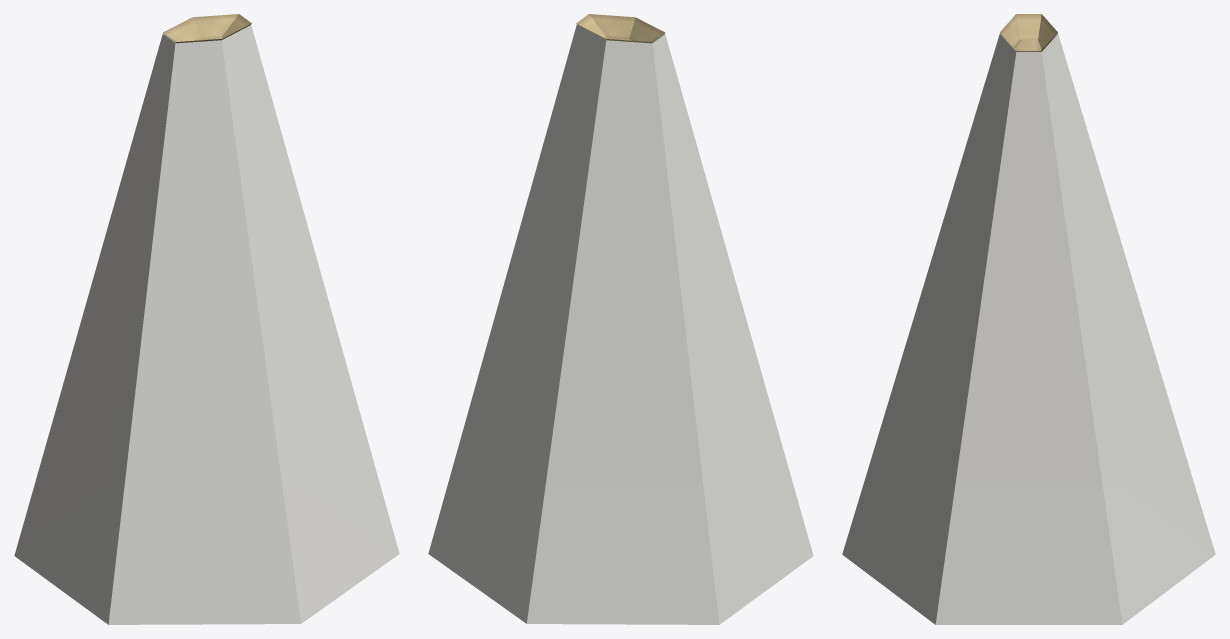
Rendered from Poly_SF_Outside_B_Street_Light_01_Lamp.obj.
3 renders of one model, left to right at view 1: azimuth 30°, elevation 25°; view 2: azimuth 150°, elevation 25°; view 3: azimuth 270°, elevation 25°, orthographic.
Parts seen in each view (by area): view 1: Cube.001, Cube.003; view 2: Cube.001, Cube.003; view 3: Cube.001, Cube.003.
Part boxes in pixels (<box>): Cube.001: <box>14,25,399,624</box>; Cube.003: <box>163,14,251,43</box>; Cube.001: <box>428,25,813,624</box>; Cube.003: <box>576,14,665,43</box>; Cube.001: <box>842,33,1215,624</box>; Cube.003: <box>1000,14,1057,51</box>.
Bounding box in the file's own units: 1.59 × 2.74 × 1.78.
Materials: 2 (2 with a texture image).
